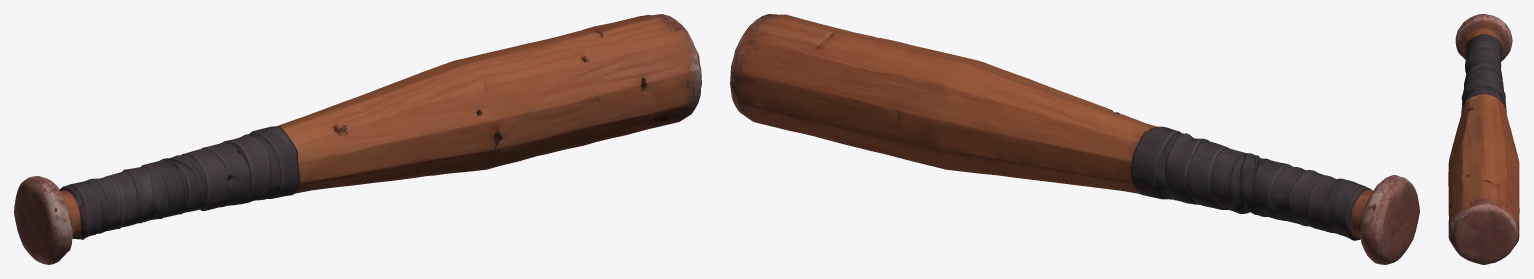
The model's file is weapon_bat_derevyannaya_idle.glb.
3 views of the same model, side by side, from view 1: azimuth 30°, elevation 25°; view 2: azimuth 150°, elevation 25°; view 3: azimuth 270°, elevation 25° (orthographic). The views are drawn at different scales.
Parts seen in each view (by area): view 1: tripo_node_e6deaea6-4ddb-414b-8446-71d9c508e201; view 2: tripo_node_e6deaea6-4ddb-414b-8446-71d9c508e201; view 3: tripo_node_e6deaea6-4ddb-414b-8446-71d9c508e201.
Boxes of the visible parts, box(x1,y1,x2,y2) form: tripo_node_e6deaea6-4ddb-414b-8446-71d9c508e201: box(14, 14, 701, 264); tripo_node_e6deaea6-4ddb-414b-8446-71d9c508e201: box(730, 14, 1419, 264); tripo_node_e6deaea6-4ddb-414b-8446-71d9c508e201: box(1448, 14, 1519, 264).
Bounding box in the file's own units: 0.9001 × 0.1384 × 0.1359.
Materials: 1 (1 with a texture image).
